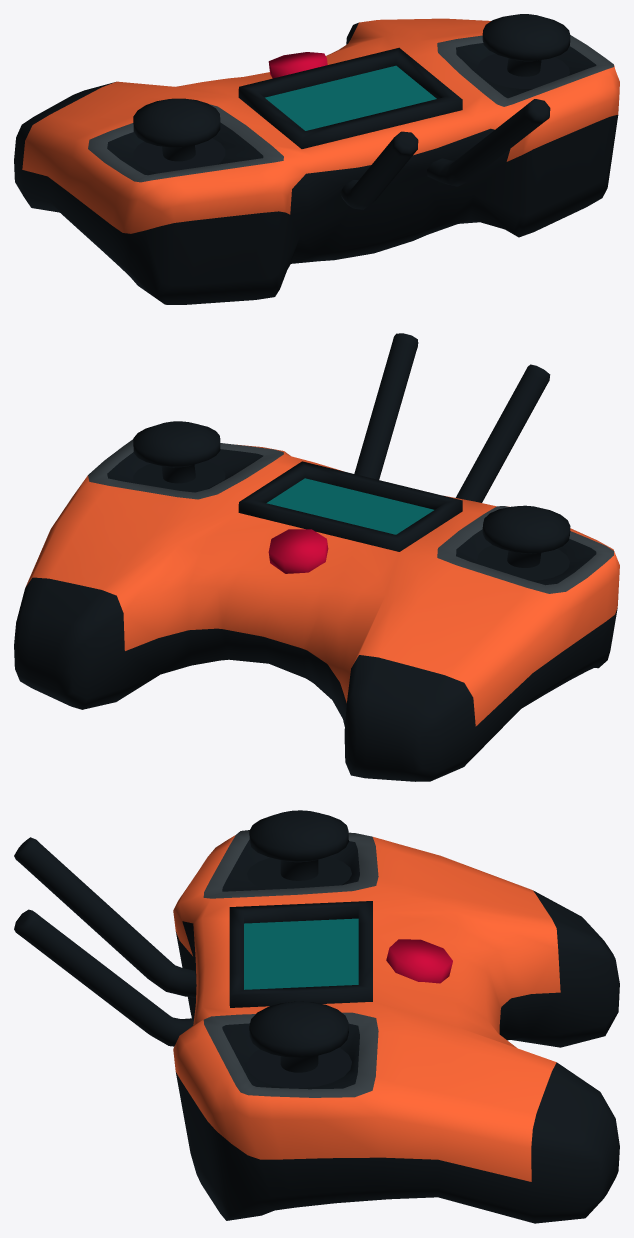
File: Mini_Drone_Set_1_Orange_Controller_00.fbx
3 renders of one model, top to bottom at view 1: azimuth 30°, elevation 25°; view 2: azimuth 150°, elevation 25°; view 3: azimuth 270°, elevation 25°, orthographic. The views are drawn at different scales.
Parts seen in each view (by area): view 1: Drone.Controller_4; view 2: Drone.Controller_4; view 3: Drone.Controller_4.
Boxes of the visible parts, x1,y1,x2,y2 form: Drone.Controller_4: [14, 14, 619, 304]; Drone.Controller_4: [14, 333, 619, 781]; Drone.Controller_4: [14, 810, 619, 1223].
Size of the model in its own units: 0.2865 by 0.117 by 0.2677.
1 material, 1 textured.
